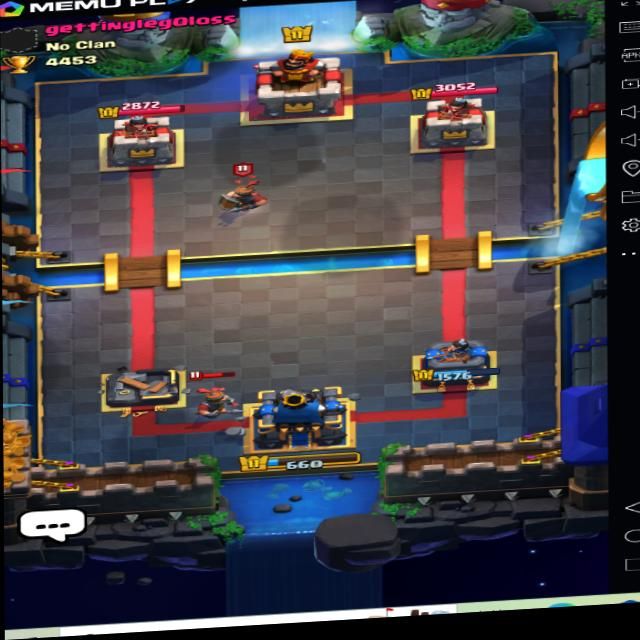royal-recruits: (176, 369, 247, 433), (216, 159, 278, 220)
